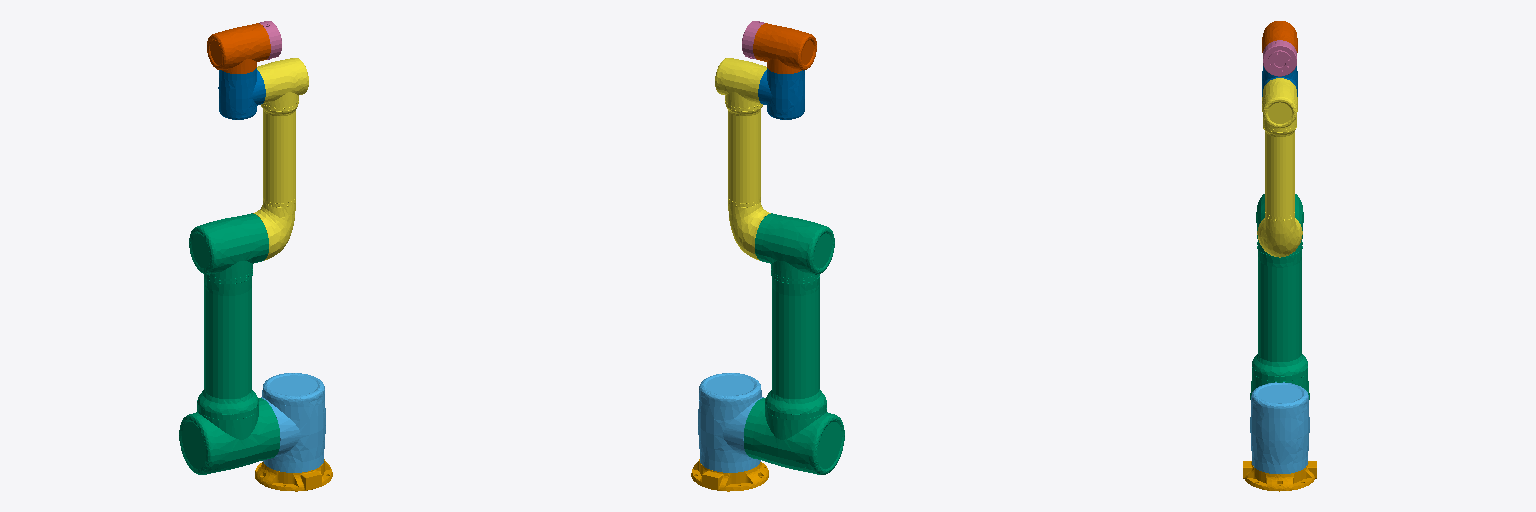
URDF robot description (Lexium_Cobot_L18S002):
<?xml version="1.0" ?>
<robot name="Lexium_Cobot_L18S002">
  <!--Generated by RobotCAD, a ROS Workbench for FreeCAD (https://github.com/drfenixion/freecad.robotcad)-->
  <!-- Patched: <inertial> for gz-sim + box <collision> (mesh collisions are too slow) + <limit effort/velocity> on every joint (JTC on_init segfaults at 0x18 without them). Masses/limits are placeholders. -->
  <link name="l_Base_Link002">
    <visual>
      <!--Base_Link001/Base_Link001.-->
      <origin rpy="0 0 0" xyz="0.0 0.0 0.0"/>
      <geometry>
        <mesh filename="package://lexium_cobot_l18s/meshes/base_link.obj"/>
      </geometry>
    </visual>
    <collision>
      <origin rpy="0 0 0" xyz="0.0 0.0 0.02"/>
      <geometry>
        <box size="0.19 0.20 0.05"/>
      </geometry>
    </collision>
    <inertial>
      <origin rpy="0 0 0" xyz="0.0 0.0 0.0"/>
      <mass value="7.5"/>
      <inertia ixx="0.04" ixy="0.0" ixz="0.0" iyy="0.04" iyz="0.0" izz="0.05"/>
    </inertial>
  </link>
  <link name="l_Link_012">
    <visual>
      <!--Link_001/Link_001.-->
      <origin rpy="0 0 -1.5707963267948963" xyz="0.0 0.0 -0.04"/>
      <geometry>
        <mesh filename="package://lexium_cobot_l18s/meshes/link_1.obj"/>
      </geometry>
    </visual>
    <collision>
      <origin rpy="0 0 0" xyz="0.0 0.0 0.05"/>
      <geometry>
        <box size="0.16 0.16 0.20"/>
      </geometry>
    </collision>
    <inertial>
      <origin rpy="0 0 0" xyz="0.0 0.0 0.0"/>
      <mass value="8.5"/>
      <inertia ixx="0.05" ixy="0.0" ixz="0.0" iyy="0.05" iyz="0.0" izz="0.04"/>
    </inertial>
  </link>
  <link name="l_Link_013">
    <visual>
      <!--Link_003/Link_002.-->
      <origin rpy="-1.5707963267948966 1.5707963057214795 -2.6341789374360692e-09" xyz="0.0 -0.14265 -0.079"/>
      <geometry>
        <mesh filename="package://lexium_cobot_l18s/meshes/link_2.obj"/>
      </geometry>
    </visual>
    <collision>
      <origin rpy="0 0 0" xyz="0.0 0.0 0.25"/>
      <geometry>
        <box size="0.20 0.16 0.65"/>
      </geometry>
    </collision>
    <inertial>
      <origin rpy="0 0 0" xyz="0.0 0.0 0.0"/>
      <mass value="10.5"/>
      <inertia ixx="0.12" ixy="0.0" ixz="0.0" iyy="0.12" iyz="0.0" izz="0.03"/>
    </inertial>
  </link>
  <link name="l_Link_014">
    <visual>
      <!--Link_005/Link_003.-->
      <origin rpy="1.570796358405043 -1.5707963057214789 3.141592632516363" xyz="0.0 -0.65265 0.1015"/>
      <geometry>
        <mesh filename="package://lexium_cobot_l18s/meshes/link_3.obj"/>
      </geometry>
    </visual>
    <collision>
      <origin rpy="0 0 0" xyz="0.0 0.0 0.20"/>
      <geometry>
        <box size="0.13 0.12 0.51"/>
      </geometry>
    </collision>
    <inertial>
      <origin rpy="0 0 0" xyz="0.0 0.0 0.0"/>
      <mass value="4.5"/>
      <inertia ixx="0.04" ixy="0.0" ixz="0.0" iyy="0.04" iyz="0.0" izz="0.015"/>
    </inertial>
  </link>
  <link name="l_Link_015">
    <visual>
      <!--Link_007/Link_004.-->
      <origin rpy="-1.570796305721466 1.5707963057214789 2.3707609562623418e-08" xyz="0.0 -1.05265 -0.1035"/>
      <geometry>
        <mesh filename="package://lexium_cobot_l18s/meshes/link_4.obj"/>
      </geometry>
    </visual>
    <collision>
      <origin rpy="0 0 0" xyz="0.0 0.0 0.0"/>
      <geometry>
        <box size="0.10 0.10 0.13"/>
      </geometry>
    </collision>
    <inertial>
      <origin rpy="0 0 0" xyz="0.0 0.0 0.0"/>
      <mass value="2.0"/>
      <inertia ixx="0.015" ixy="0.0" ixz="0.0" iyy="0.015" iyz="0.0" izz="0.01"/>
    </inertial>
  </link>
  <link name="l_Link_016">
    <visual>
      <!--Link_009/Link_005.-->
      <origin rpy="0 0 -1.570796332967153" xyz="0.0 -0.154 -1.11715"/>
      <geometry>
        <mesh filename="package://lexium_cobot_l18s/meshes/link_5.obj"/>
      </geometry>
    </visual>
    <collision>
      <origin rpy="0 0 0" xyz="0.0 0.0 0.0"/>
      <geometry>
        <box size="0.13 0.10 0.10"/>
      </geometry>
    </collision>
    <inertial>
      <origin rpy="0 0 0" xyz="0.0 0.0 0.0"/>
      <mass value="1.2"/>
      <inertia ixx="0.008" ixy="0.0" ixz="0.0" iyy="0.008" iyz="0.0" izz="0.006"/>
    </inertial>
  </link>
  <link name="l_Link_017">
    <visual>
      <!--Link_011/Link_006.-->
      <origin rpy="1.570796362769535 -1.5707963206226425 -1.570796362769535" xyz="1.16765 0.0 0.0895"/>
      <geometry>
        <mesh filename="package://lexium_cobot_l18s/meshes/link_6.obj"/>
      </geometry>
    </visual>
    <collision>
      <origin rpy="0 0 0" xyz="0.0 0.0 0.0"/>
      <geometry>
        <box size="0.05 0.09 0.10"/>
      </geometry>
    </collision>
    <inertial>
      <origin rpy="0 0 0" xyz="0.0 0.0 0.0"/>
      <mass value="0.8"/>
      <inertia ixx="0.003" ixy="0.0" ixz="0.0" iyy="0.003" iyz="0.0" izz="0.004"/>
    </inertial>
  </link>
  <!-- Virtual fixed attachment to world: bolts the free-floating base down so gravity can't drop the whole arm. Invisible, no geometry. -->
  <link name="world"/>
  <joint name="world__to__l_Base_Link002" type="fixed">
    <parent link="world"/>
    <child link="l_Base_Link002"/>
    <origin rpy="0 0 0" xyz="0.0 0.0 0.0"/>
  </joint>
  <!-- Joint 1: Range ±270 deg (-4.71239 to +4.71239 rad) [±360 deg extended], Max speed 120 deg/s (2.0944 rad/s) -->
  <joint name="l_Base_Link002__to__l_Link_012" type="revolute">
    <parent link="l_Base_Link002"/>
    <child link="l_Link_012"/>
    <origin rpy="0 0 1.5707963267948934" xyz="0.0 0.0 0.04"/>
    <axis xyz="0 0 1"/>
    <limit effort="300.0" lower="-4.71239" upper="4.71239" velocity="2.0944"/>
    <dynamics damping="1.0" friction="0.1"/>
  </joint>
  <!-- Joint 2: Range -85 to +265 deg (-1.48353 to +4.62512 rad), Max speed 120 deg/s (2.0944 rad/s) -->
  <joint name="l_Link_012__to__l_Link_013" type="revolute">
    <parent link="l_Link_012"/>
    <child link="l_Link_013"/>
    <origin rpy="1.570796326794897 0 -3.141592653589793" xyz="0.0 0.079 0.10265"/>
    <axis xyz="0 0 1"/>
    <limit effort="300.0" lower="-1.48353" upper="4.62512" velocity="2.0944"/>
    <dynamics damping="1.0" friction="0.1"/>
  </joint>
  <!-- Joint 3: Range ±175 deg (-3.05433 to +3.05433 rad), Max speed 120 deg/s (2.0944 rad/s) -->
  <joint name="l_Link_013__to__l_Link_014" type="revolute">
    <parent link="l_Link_013"/>
    <child link="l_Link_014"/>
    <origin rpy="-3.141592653589793 0 -3.1415926535897922" xyz="0.0 0.51 0.0225"/>
    <axis xyz="0 0 1"/>
    <limit effort="150.0" lower="-3.05433" upper="3.05433" velocity="2.0944"/>
    <dynamics damping="0.8" friction="0.1"/>
  </joint>
  <!-- Joint 4: Range -85 to +265 deg (-1.48353 to +4.62512 rad), Max speed 180 deg/s (3.1416 rad/s) -->
  <joint name="l_Link_014__to__l_Link_015" type="revolute">
    <parent link="l_Link_014"/>
    <child link="l_Link_015"/>
    <origin rpy="3.1415926535897922 0 3.1415926535897913" xyz="0.0 0.400001 -0.002"/>
    <axis xyz="0 0 1"/>
    <limit effort="80.0" lower="-1.48353" upper="4.62512" velocity="3.1416"/>
    <dynamics damping="0.5" friction="0.05"/>
  </joint>
  <!-- Joint 5: Range ±270 deg (-4.71239 to +4.71239 rad) [±360 deg extended], Max speed 180 deg/s (3.1416 rad/s) -->
  <joint name="l_Link_015__to__l_Link_016" type="revolute">
    <parent link="l_Link_015"/>
    <child link="l_Link_016"/>
    <origin rpy="1.5707963267948963 0 -3.1415926535897927" xyz="0.0 0.0645 0.0505"/>
    <axis xyz="0 0 1"/>
    <limit effort="40.0" lower="-4.71239" upper="4.71239" velocity="3.1416"/>
    <dynamics damping="0.3" friction="0.05"/>
  </joint>
  <!-- Joint 6: Range ±270 deg (-4.71239 to +4.71239 rad) [±360 deg extended], Max speed 180 deg/s (3.1416 rad/s) -->
  <joint name="l_Link_016__to__l_Link_017" type="revolute">
    <parent link="l_Link_016"/>
    <child link="l_Link_017"/>
    <origin rpy="1.5707963267948986 1.570796326794896 0" xyz="0.0 -0.0645 0.0505"/>
    <axis xyz="0 0 1"/>
    <limit effort="40.0" lower="-4.71239" upper="4.71239" velocity="3.1416"/>
    <dynamics damping="0.2" friction="0.02"/>
  </joint>
  <!-- Tool frame: fixed at 0.039 m along z of l_Link_017 with identical orientation -->
  <link name="tool0"/>
  <joint name="l_Link_017__to__tool0" type="fixed">
    <parent link="l_Link_017"/>
    <child link="tool0"/>
    <origin rpy="0 0 0" xyz="0.0 0.0 0.039"/>
  </joint>
</robot>

--- Facts derived from the render (not from the file) ---
Views: 3 orthographic renders of the robot side by side, from view 1: azimuth 30°, elevation 25°; view 2: azimuth 150°, elevation 25°; view 3: azimuth 270°, elevation 25°.
Robot: Lexium_Cobot_L18S002 — 9 links, 8 joints (6 revolute, 2 fixed); root link world; default pose: all joints at 0.
Visible links, largest first — view 1: l_Link_013, l_Link_014, l_Link_012, l_Link_016, l_Link_015, l_Base_Link002; view 2: l_Link_013, l_Link_014, l_Link_012, l_Link_016, l_Link_015, l_Base_Link002; view 3: l_Link_013, l_Link_014, l_Link_012, l_Base_Link002, l_Link_017, l_Link_016.
Boxes of the visible links, x1,y1,x2,y2 form: l_Link_013: (179, 213, 279, 474); l_Link_014: (253, 58, 308, 260); l_Link_012: (261, 373, 325, 472); l_Link_016: (207, 23, 270, 73); l_Link_015: (218, 68, 265, 119); l_Base_Link002: (255, 459, 332, 491); l_Link_013: (744, 213, 844, 474); l_Link_014: (715, 58, 770, 260); l_Link_012: (698, 373, 763, 472); l_Link_016: (753, 23, 816, 73); l_Link_015: (758, 68, 804, 119); l_Base_Link002: (691, 459, 768, 491); l_Link_013: (1250, 194, 1309, 399); l_Link_014: (1257, 78, 1302, 257); l_Link_012: (1250, 382, 1309, 473); l_Base_Link002: (1243, 461, 1316, 491); l_Link_017: (1263, 40, 1296, 76); l_Link_016: (1262, 21, 1297, 52).
Bounding box of the posed robot: 0.3722 × 0.194 × 1.21 m (x, y, z).
Meshes: 7 distinct files referenced, 7 mesh visuals loaded (7 OBJ).
